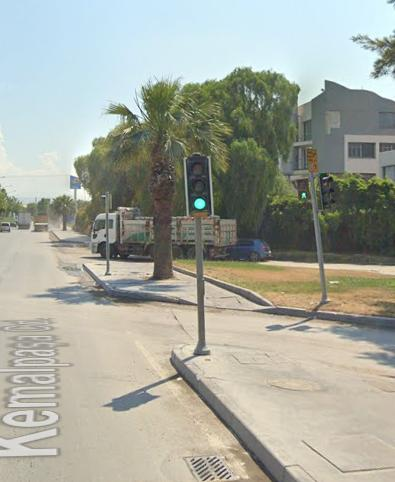greenlight: (181, 152, 219, 222)
